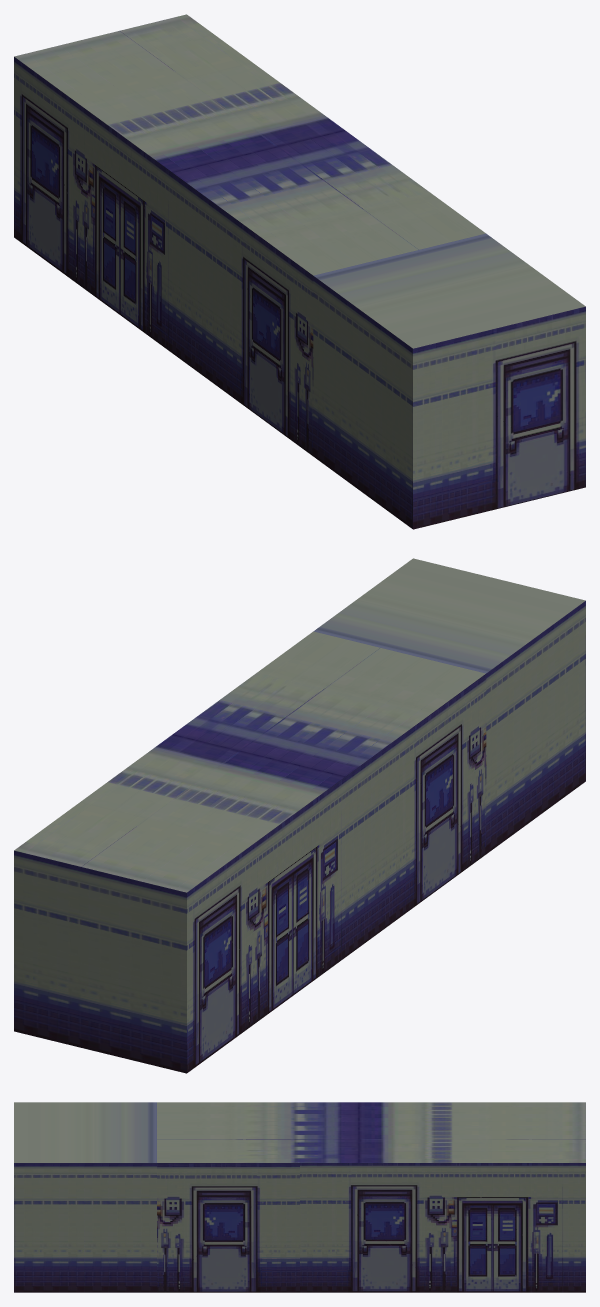
The model's file is Rpiece.fbx.
3 renders of one model, top to bottom at view 1: azimuth 30°, elevation 25°; view 2: azimuth 150°, elevation 25°; view 3: azimuth 270°, elevation 25°, orthographic. The views are drawn at different scales.
Parts seen in each view (by area): view 1: RPiece.001; view 2: RPiece.001; view 3: RPiece.001.
Boxes of the visible parts, x1=… form: RPiece.001: x1=14, y1=14, x2=585, y2=529; RPiece.001: x1=14, y1=558, x2=585, y2=1073; RPiece.001: x1=14, y1=1102, x2=585, y2=1292.
Bounding box in the file's own units: 200 × 200 × 800.
